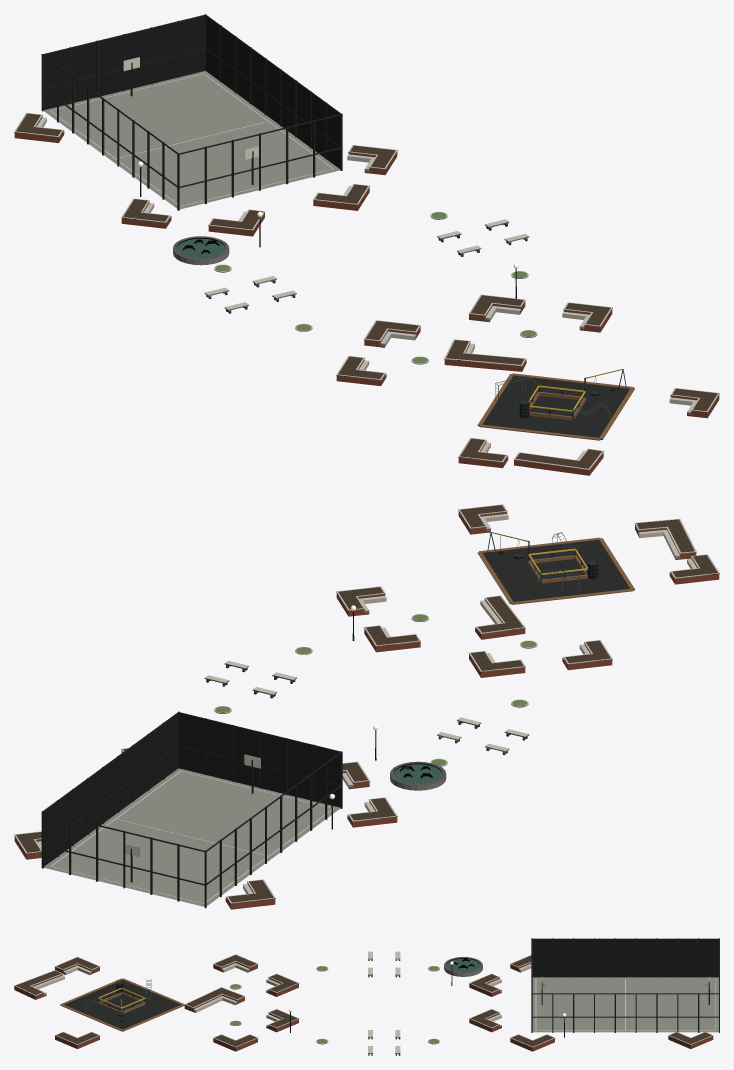
File: SM_Courtyard.glb
3 views of the same model, one above another, from view 1: azimuth 30°, elevation 25°; view 2: azimuth 150°, elevation 25°; view 3: azimuth 270°, elevation 25° (orthographic). The views are drawn at different scales.
Visible parts, largest first — view 1: SM_Courtyard_LM, SM_Courtyard_VC; view 2: SM_Courtyard_LM, SM_Courtyard_VC; view 3: SM_Courtyard_LM, SM_Courtyard_VC.
Part boxes in pixels (x1,y1,x2,y2): SM_Courtyard_LM: (14,14,719,475); SM_Courtyard_VC: (14,14,719,469); SM_Courtyard_LM: (14,504,719,909); SM_Courtyard_VC: (14,510,719,904); SM_Courtyard_LM: (14,938,719,1052); SM_Courtyard_VC: (14,938,719,1055).
Bounding box in the file's own units: 33.3 × 6.01 × 97.94.
